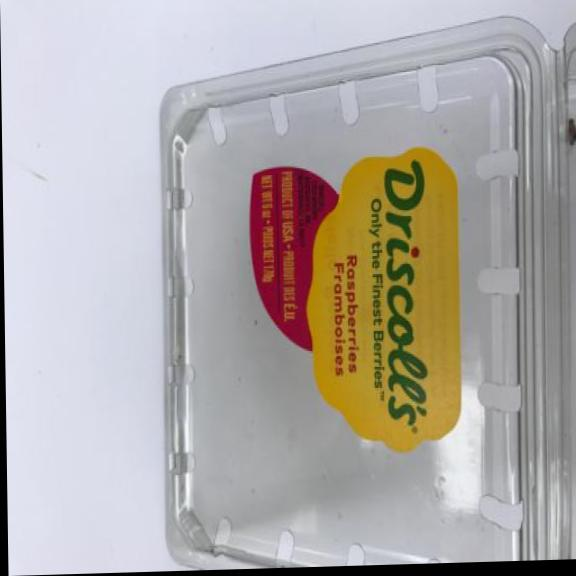Plastik: (149, 11, 576, 571)
